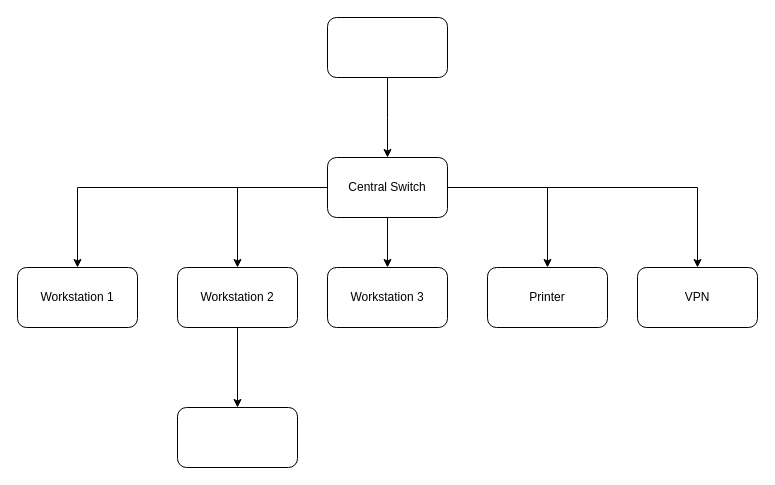
Image size: 775x485. Some labels were removed from this diagram. Each missing label, with the centre of its shape:
"Internet" goes at [387,47].
"Workstation 4" goes at [237,437].
